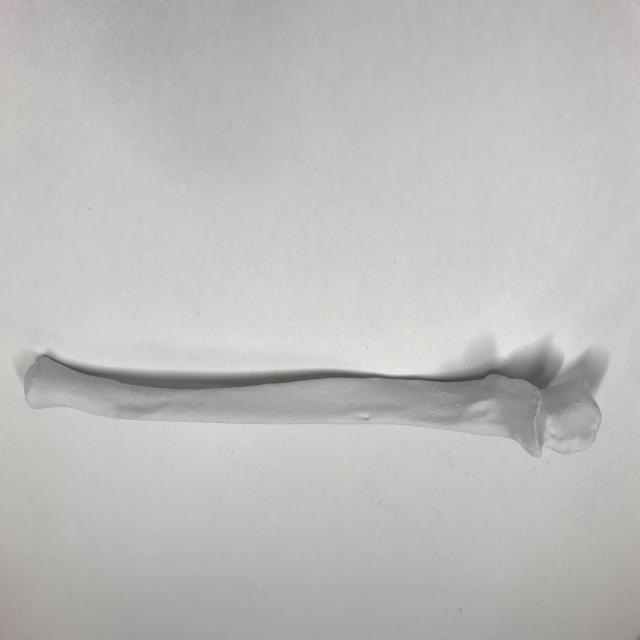bone: (21, 346, 605, 475)
